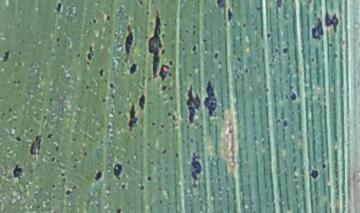tarspot: (147, 10, 164, 77), (184, 84, 201, 124), (203, 79, 218, 117), (323, 7, 340, 34), (190, 151, 202, 189), (123, 23, 135, 57), (310, 15, 324, 42), (127, 102, 139, 133), (29, 134, 42, 157), (158, 63, 170, 83), (214, 1, 227, 19), (11, 163, 23, 179), (112, 163, 123, 180), (86, 44, 95, 62), (138, 93, 145, 113), (226, 6, 234, 23), (128, 62, 138, 75), (2, 49, 10, 64), (310, 169, 319, 180), (55, 1, 63, 13), (94, 171, 103, 181), (63, 188, 72, 198), (240, 21, 248, 30), (49, 155, 57, 164), (54, 145, 62, 154), (289, 91, 296, 101), (75, 51, 82, 61), (45, 131, 53, 139), (108, 82, 116, 90), (98, 68, 104, 78), (275, 1, 282, 9), (281, 46, 288, 54), (91, 17, 98, 25), (281, 119, 288, 127), (161, 147, 168, 155), (49, 51, 56, 59), (188, 137, 195, 145), (41, 114, 49, 121), (65, 74, 73, 81), (161, 84, 167, 93), (320, 162, 326, 171), (265, 31, 271, 40), (235, 54, 241, 63), (14, 135, 21, 142), (28, 127, 35, 134), (139, 185, 146, 192), (191, 45, 198, 52), (159, 123, 166, 130), (255, 5, 262, 12), (55, 37, 62, 44), (11, 79, 18, 86), (148, 159, 155, 166), (160, 48, 166, 56), (213, 51, 219, 59), (116, 110, 124, 116), (82, 149, 88, 157), (83, 84, 91, 90), (157, 198, 163, 206), (174, 151, 179, 160), (167, 59, 174, 65), (168, 95, 174, 102), (243, 67, 249, 74), (234, 74, 241, 80), (72, 163, 78, 170), (50, 183, 57, 189), (101, 96, 107, 103), (146, 175, 151, 183), (167, 72, 175, 77), (172, 112, 176, 122), (310, 56, 315, 64), (120, 183, 125, 191), (150, 121, 156, 127), (327, 41, 333, 47), (61, 178, 67, 184), (16, 79, 22, 85), (115, 208, 122, 213), (166, 111, 171, 118), (105, 14, 110, 21), (331, 53, 338, 58), (59, 172, 66, 177), (71, 136, 76, 143), (48, 96, 53, 103), (137, 1, 143, 6), (56, 157, 61, 163), (73, 157, 79, 162), (157, 186, 163, 191), (7, 107, 12, 113), (17, 50, 23, 55), (146, 141, 151, 147)
